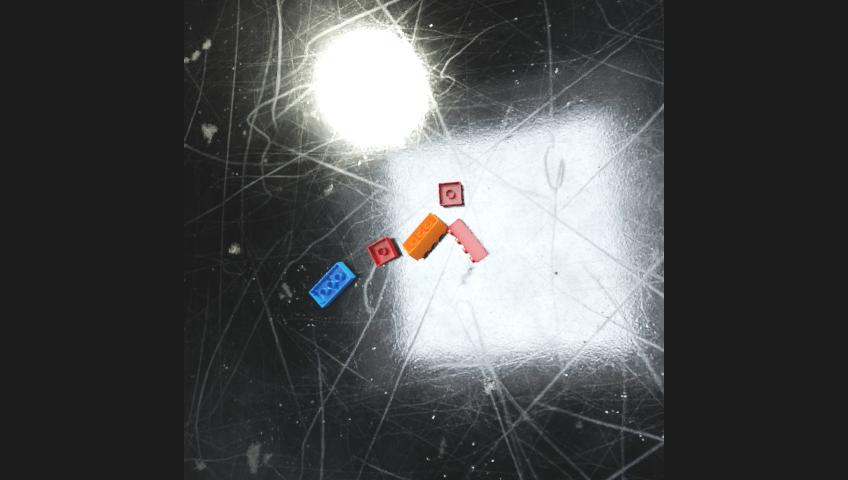2x2_red: (366, 237, 398, 265), (437, 181, 462, 206)
4x2_blue: (308, 263, 355, 307)
4x2_orange: (403, 211, 448, 260)
4x2_red: (446, 218, 487, 263)
